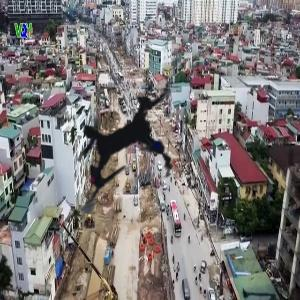drone: (14, 37, 235, 258)
